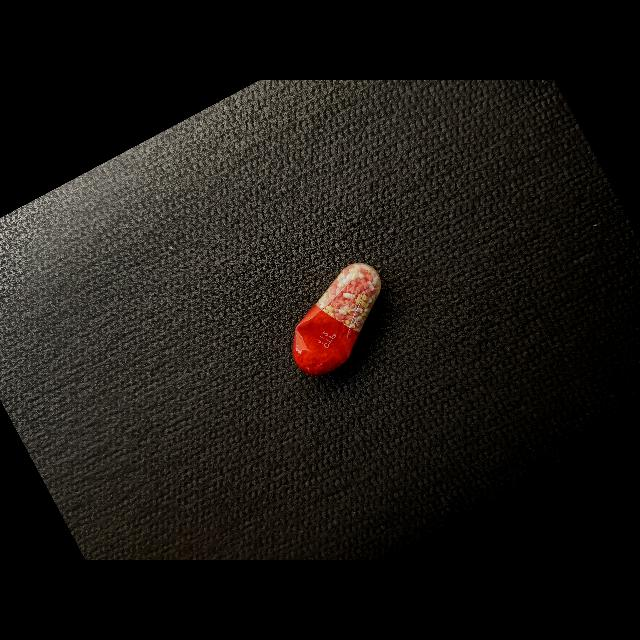Defective Capsule: (292, 263, 381, 375)
